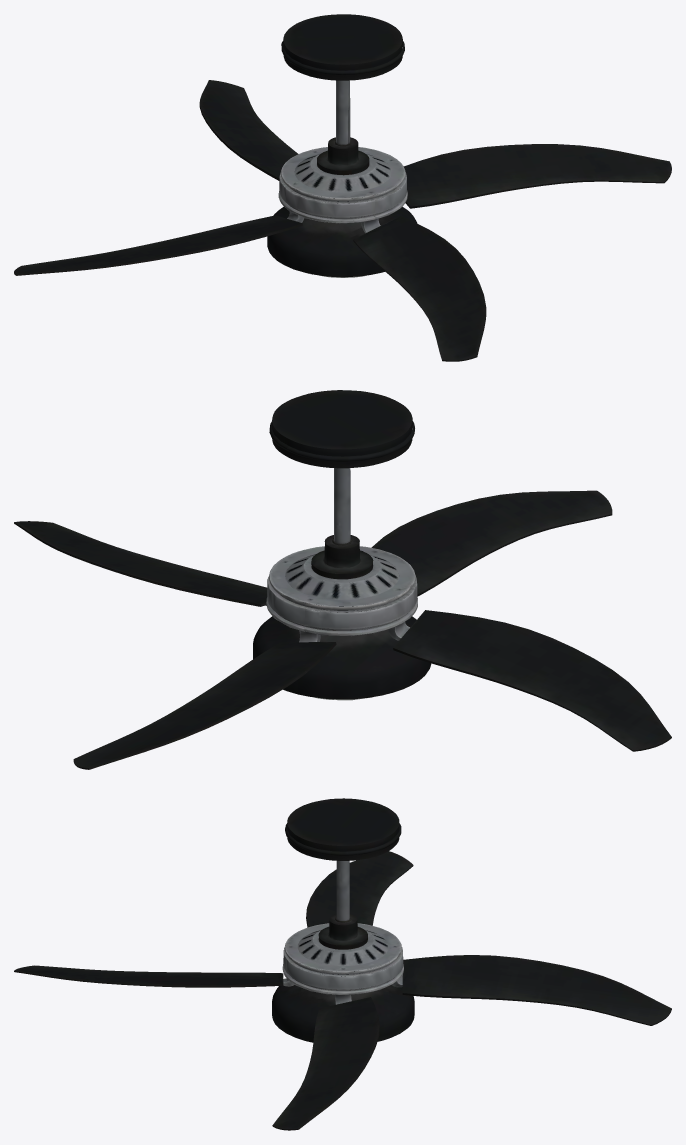
The model's file is ph_ceiling_fan.glb.
3 views of the same model, one above another, from view 1: azimuth 30°, elevation 25°; view 2: azimuth 150°, elevation 25°; view 3: azimuth 270°, elevation 25° (orthographic). The views are drawn at different scales.
Visible parts, largest first — view 1: ceiling_fan_blades, ceiling_fan; view 2: ceiling_fan_blades, ceiling_fan; view 3: ceiling_fan_blades, ceiling_fan.
Boxes of the visible parts, left/top/right/bottom form: ceiling_fan_blades: left=14, top=80, right=671, bottom=361; ceiling_fan: left=267, top=14, right=416, bottom=277; ceiling_fan_blades: left=14, top=490, right=671, bottom=769; ceiling_fan: left=253, top=390, right=431, bottom=700; ceiling_fan_blades: left=14, top=851, right=671, bottom=1130; ceiling_fan: left=272, top=798, right=414, bottom=1042.
Size of the model in its own units: 1.46 by 0.5164 by 1.46.
1 material, 1 textured.
